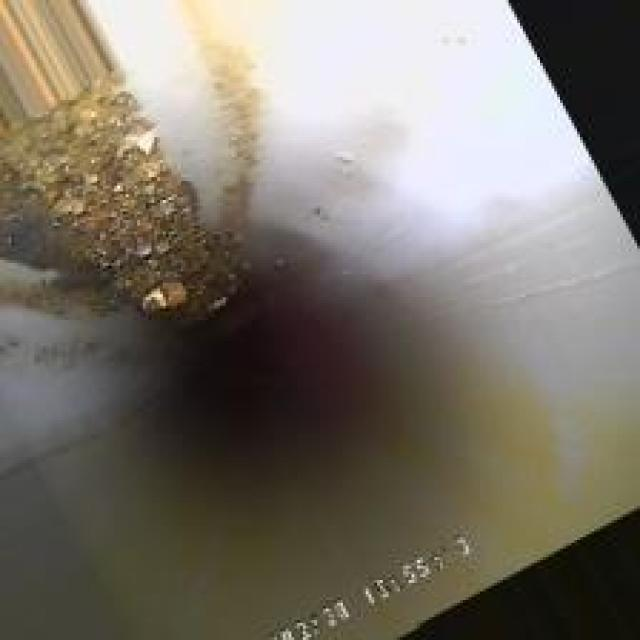stone: (131, 260, 186, 320)
